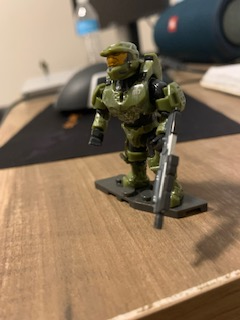chief: (87, 41, 187, 209)
rifle: (150, 111, 181, 233)
spartan: (85, 39, 185, 207)
